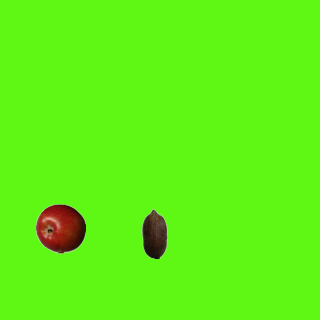Apple Braeburn: (35, 203, 85, 253)
Nut Pecan: (129, 208, 179, 258)
